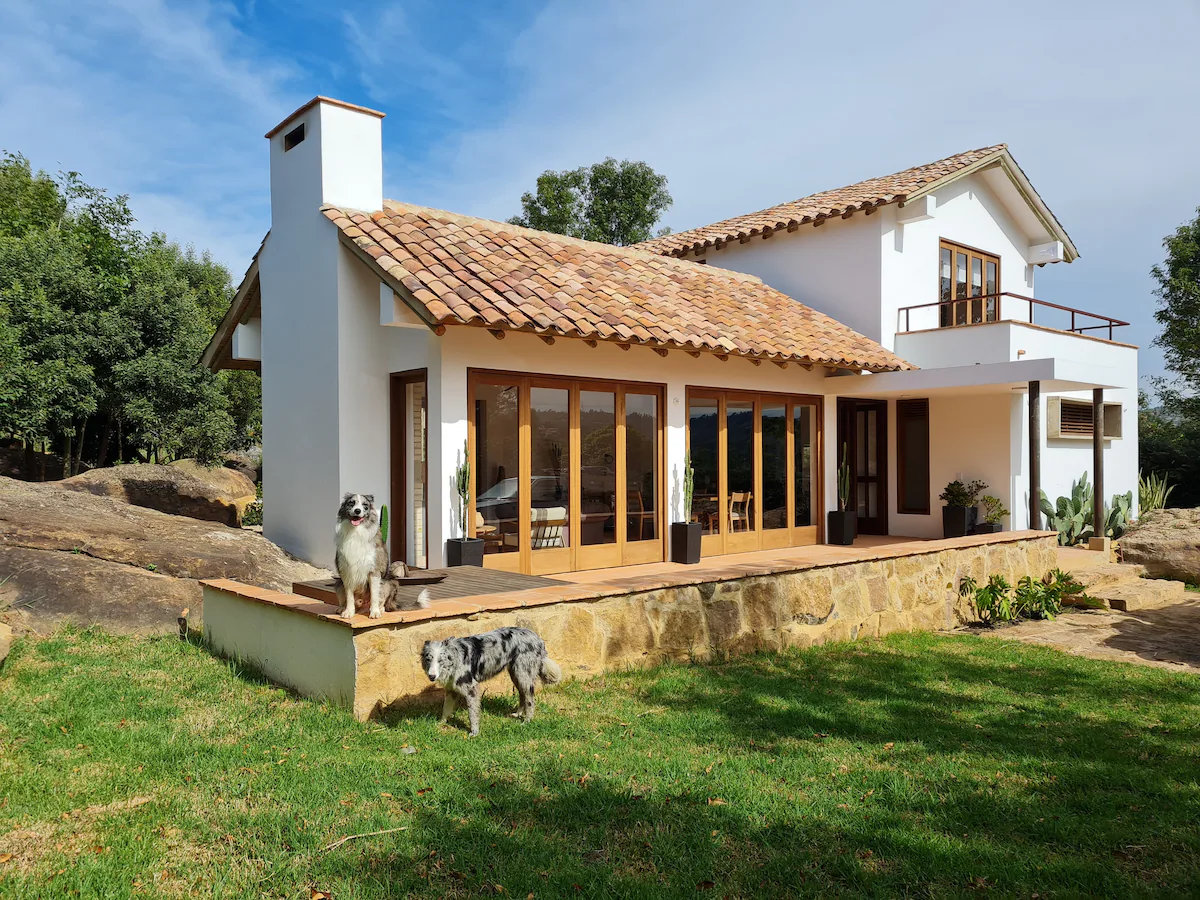House: (202, 70, 1155, 537)
